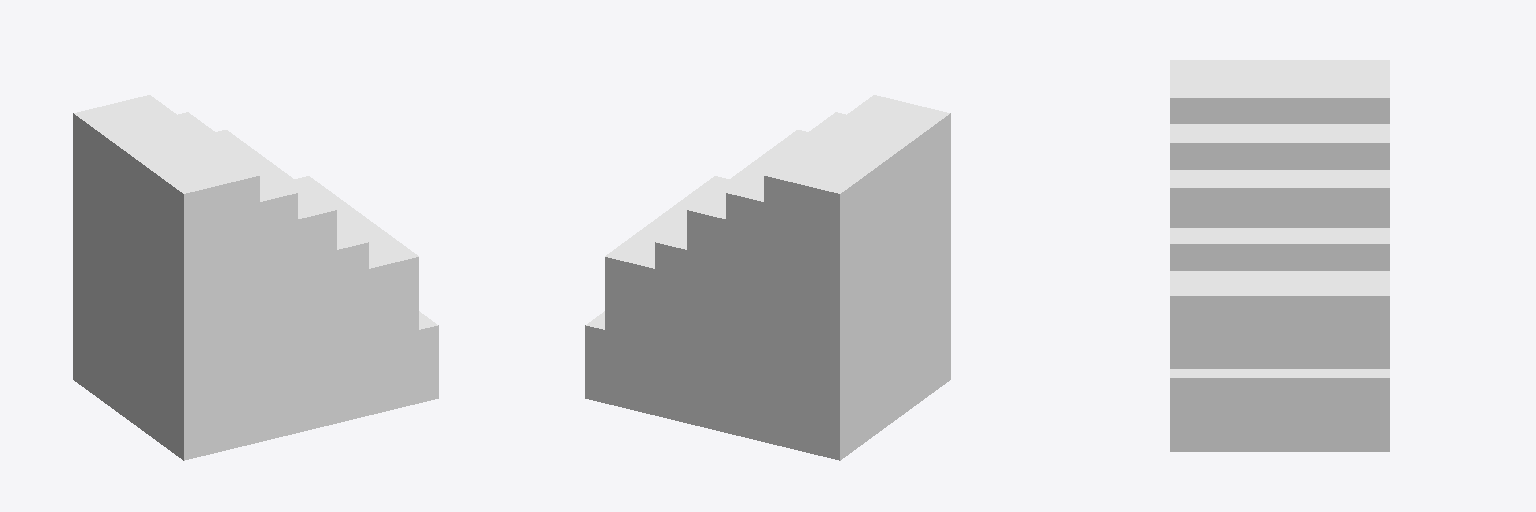
Rendered from waterfall.obj.
3 views of the same model, side by side, from view 1: azimuth 30°, elevation 25°; view 2: azimuth 150°, elevation 25°; view 3: azimuth 270°, elevation 25° (orthographic).
Visible parts, largest first — view 1: object 1; view 2: object 1; view 3: object 1.
Part boxes in pixels (left/top/right/bottom): object 1: left=73, top=95, right=438, bottom=460; object 1: left=585, top=95, right=950, bottom=460; object 1: left=1170, top=60, right=1389, bottom=451.
Size of the model in its own units: 4 by 4 by 3.